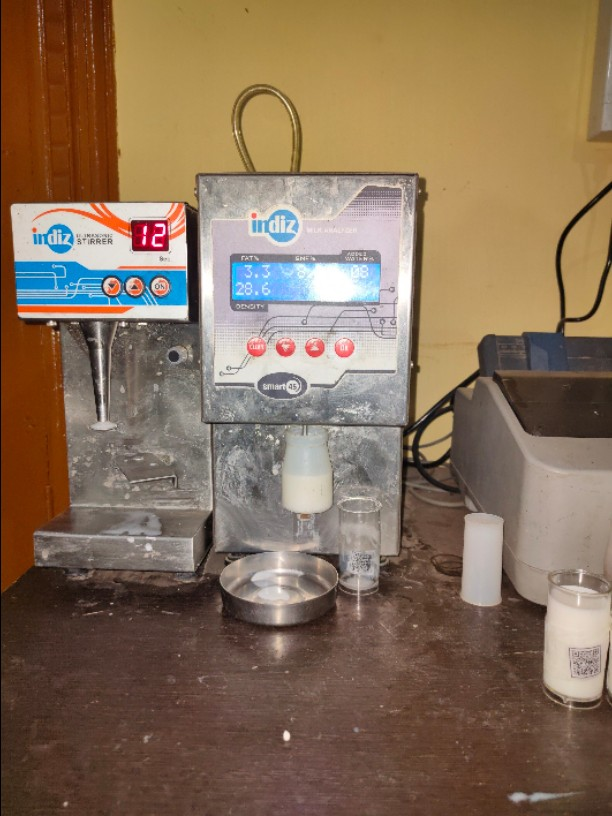lcd: (227, 255, 385, 309)
qr: (567, 646, 611, 682), (347, 548, 377, 578)
